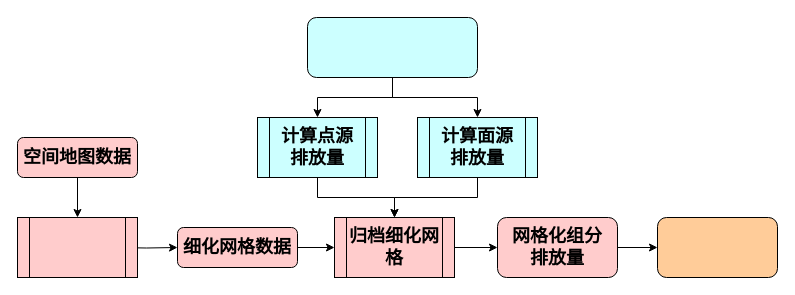
This 795x295 diagram has some shape labels left out. Here are the shapes that lost their labels. From the top down, the centre of each, then its label:
the point at 392,47: 固定污染源基础数据
the point at 77,247: 制作细化网格
the point at 717,247: 固定污染物 排放源清单
